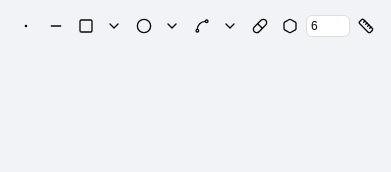
Test: SketchToolGroups › arc split button › exposes the 3-point / center / tangent arc variants with the family shortcut
The image size is (391, 172).
What coordinates should you click on to do the following:
click the button named "Arc variants"
I would click on:
 (230, 26)
Its box is x1=216 y1=12 x2=244 y2=40.
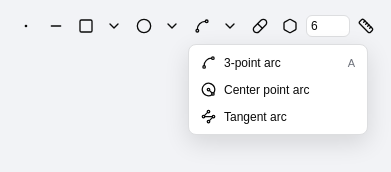
Now the menu item "3-point arc A" is shown, box x1=193 y1=49 x2=363 y2=76
Now the menu item "Center point arc" is shown, box x1=193 y1=76 x2=363 y2=103
Now the menu item "Tangent arc" is shown, box x1=193 y1=103 x2=363 y2=130
